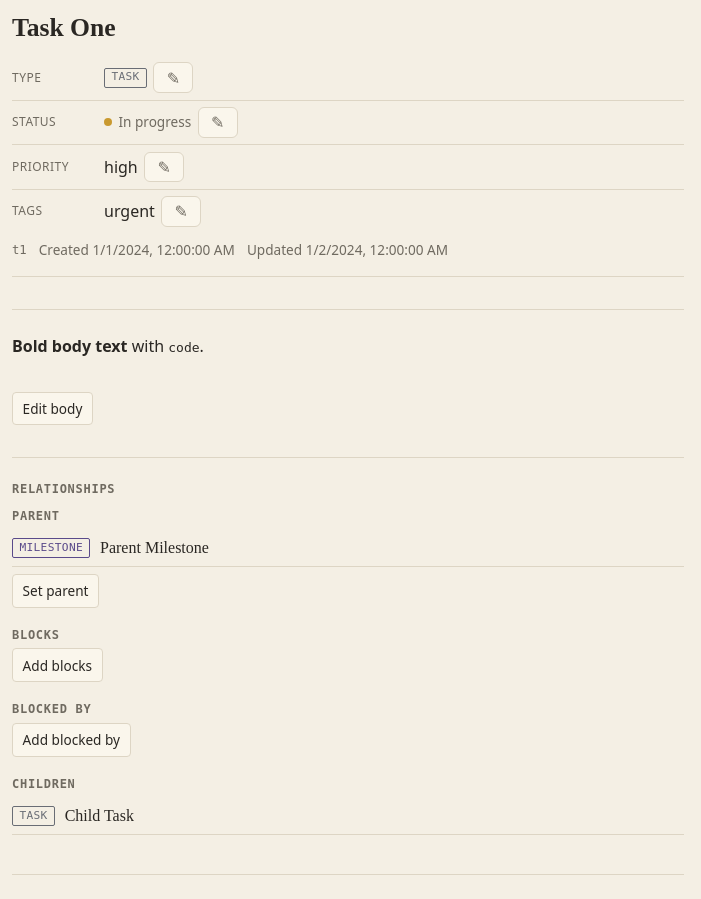
Scenario: BeanDetailPage › does not mutate when saving the body without changes
The width and height of the screenshot is (701, 899).
Click the button "Edit body".
click(52, 408)  # box [12,392,93,425]
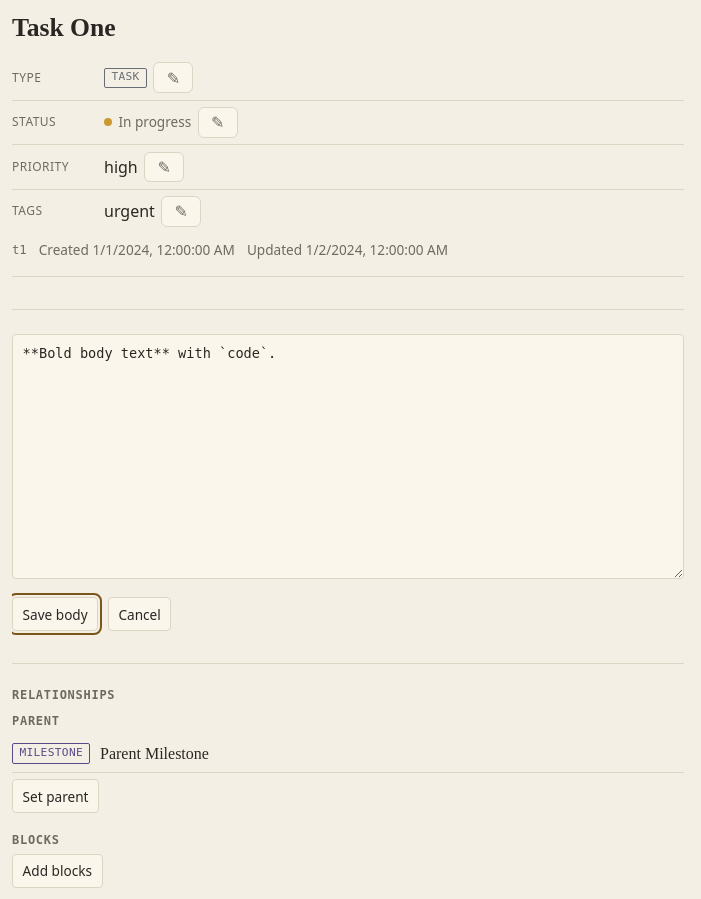
Click the button "Save body".
click(55, 614)  # box [12,597,98,631]
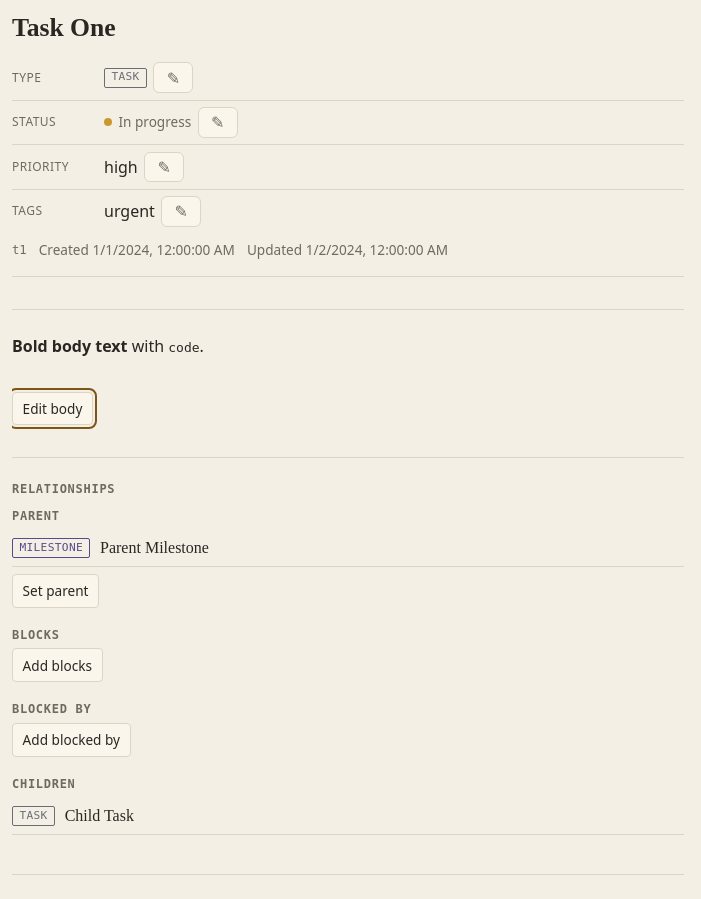
Expected: the button "Edit body" is shown, [12,392,93,425]
